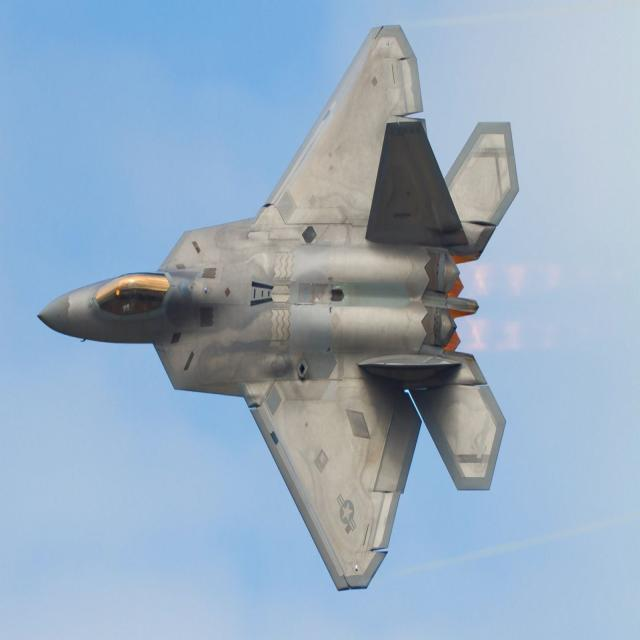F22: (28, 4, 536, 612)
